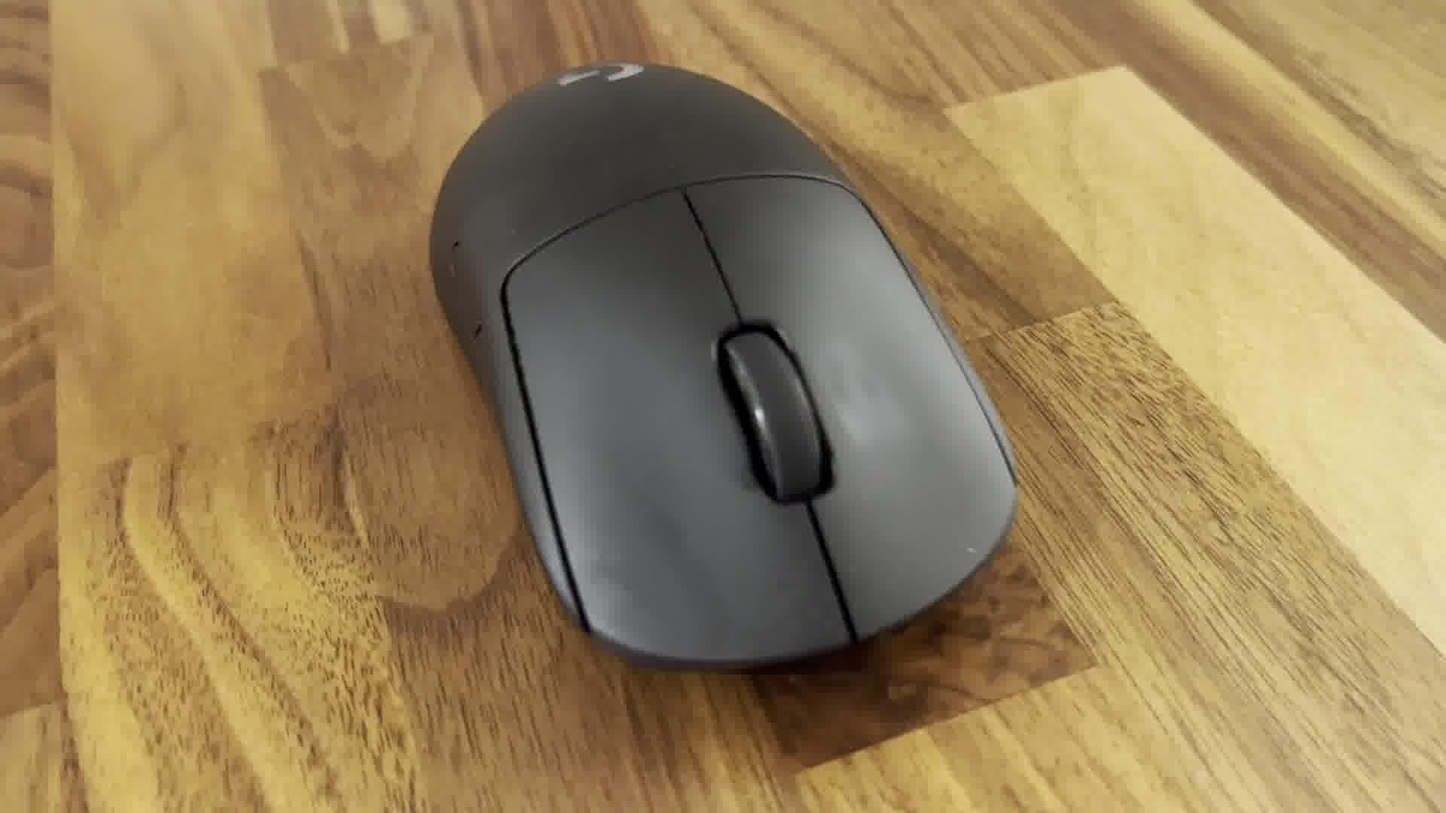logicool: (422, 57, 1028, 678)
